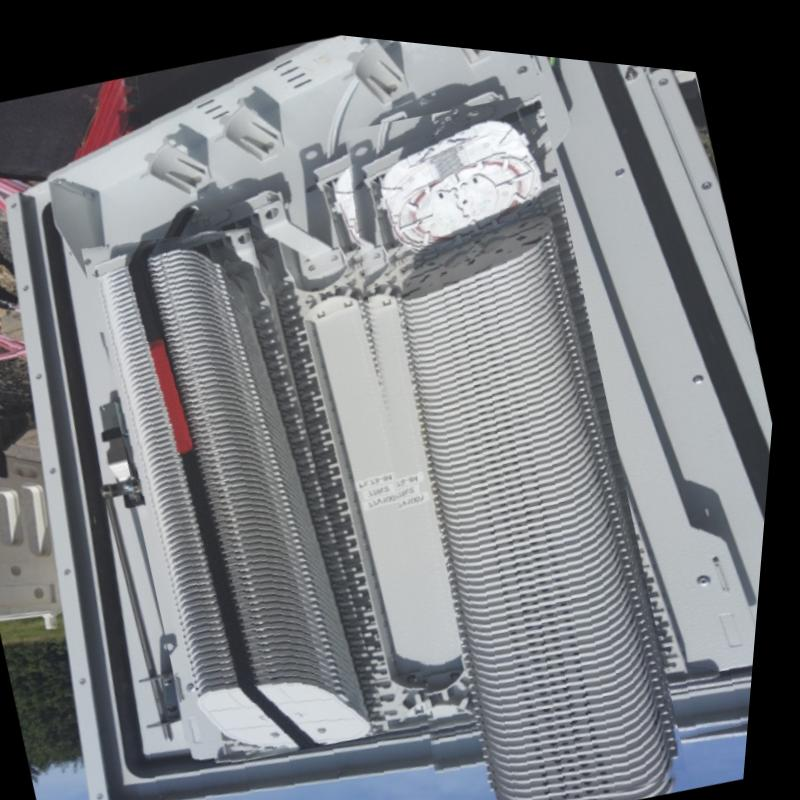NT-Gehause: (4, 28, 778, 800)
Spleiskassetten: (343, 85, 701, 800), (91, 230, 402, 756)
